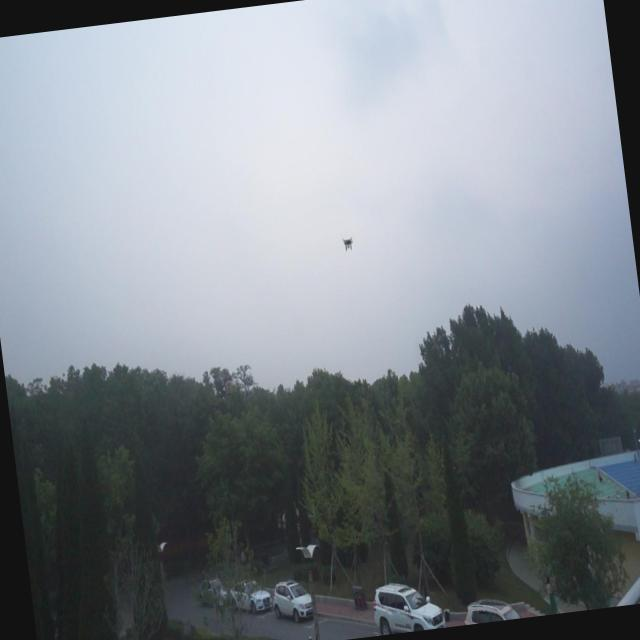drone: (342, 234, 356, 250)
